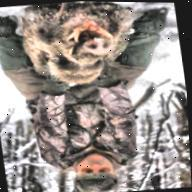boar: (14, 0, 161, 114)
